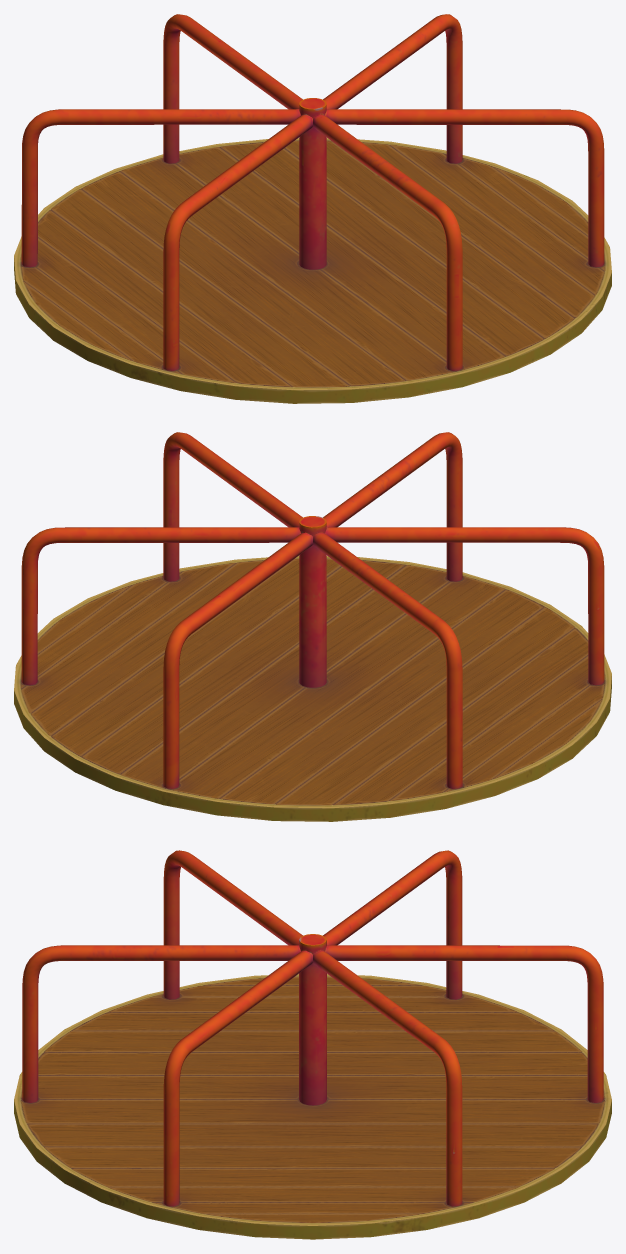
The model's file is carousel.gltf.
3 views of the same model, one above another, from view 1: azimuth 30°, elevation 25°; view 2: azimuth 150°, elevation 25°; view 3: azimuth 270°, elevation 25° (orthographic).
Parts seen in each view (by area): view 1: Base, Center; view 2: Base, Center; view 3: Base, Center.
Boxes of the visible parts, x1=… form: Base: x1=14, y1=138, x2=611, y2=403; Center: x1=21, y1=14, x2=604, y2=370; Base: x1=14, y1=556, x2=611, y2=821; Center: x1=21, y1=432, x2=604, y2=788; Base: x1=14, y1=974, x2=611, y2=1239; Center: x1=22, y1=850, x2=603, y2=1206.
Size of the model in its own units: 2 by 0.74 by 2.
1 material, 1 textured.
